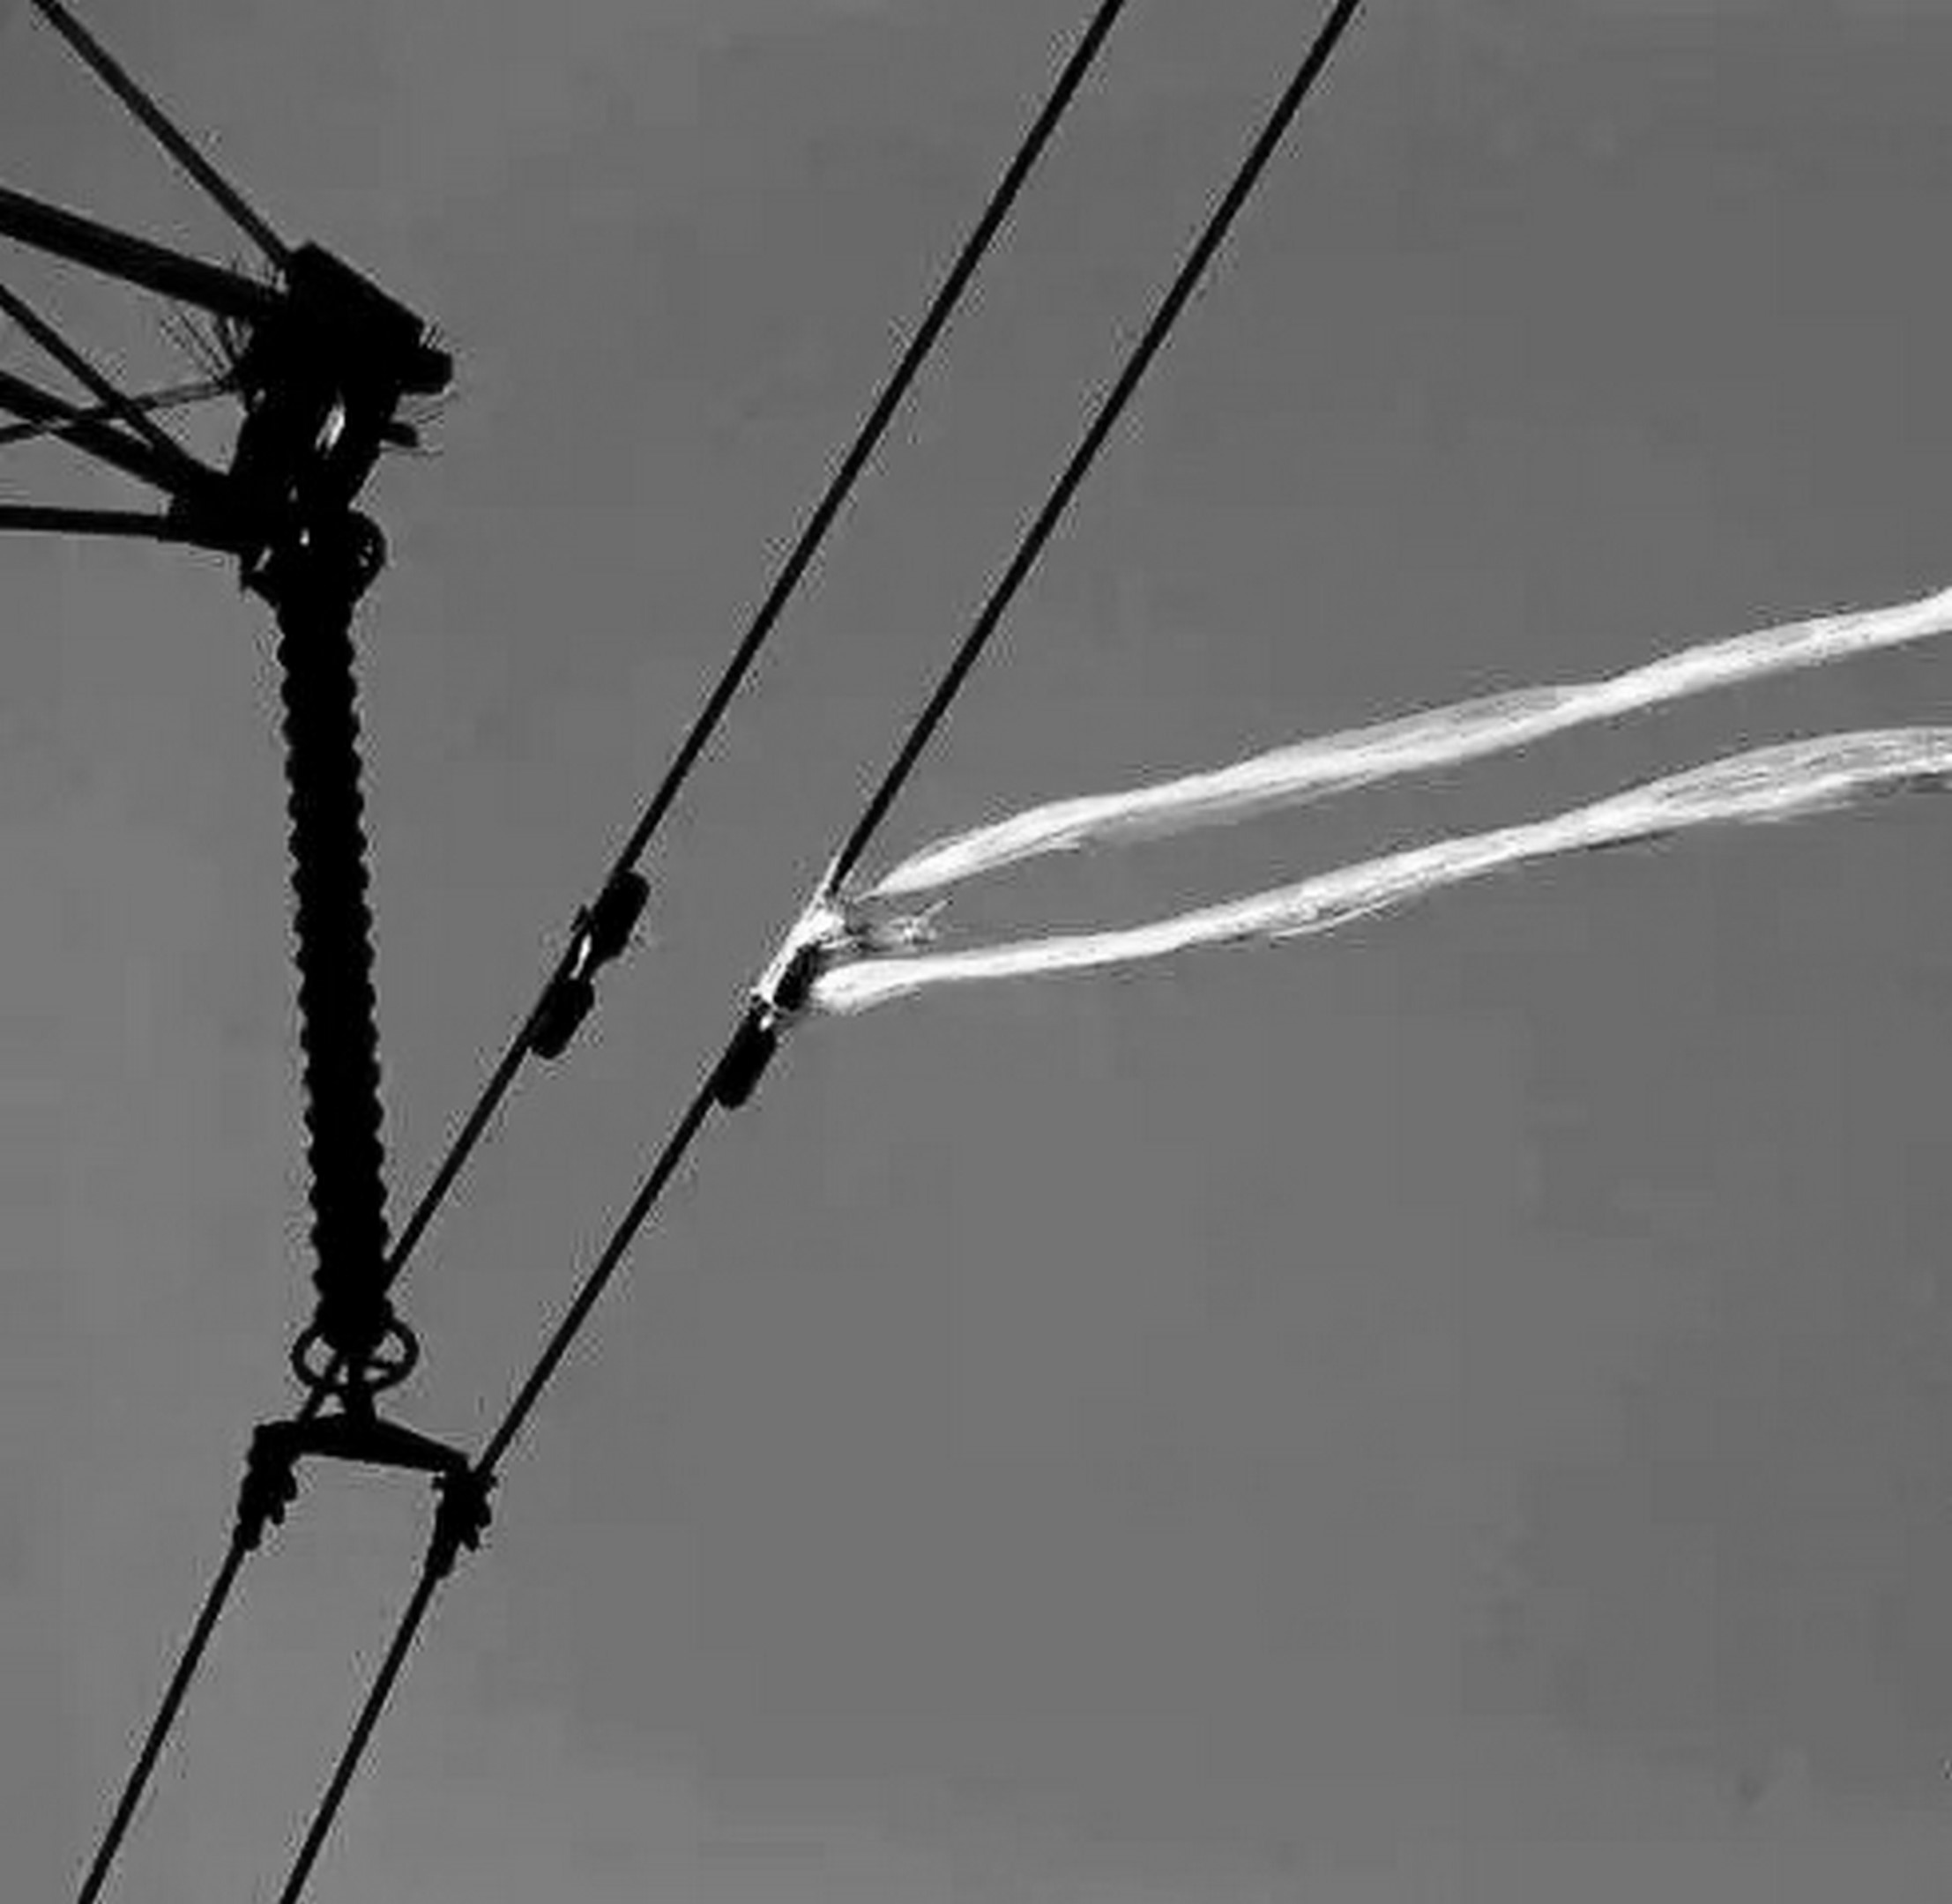wire foreign body: (734, 593, 1940, 1025)
